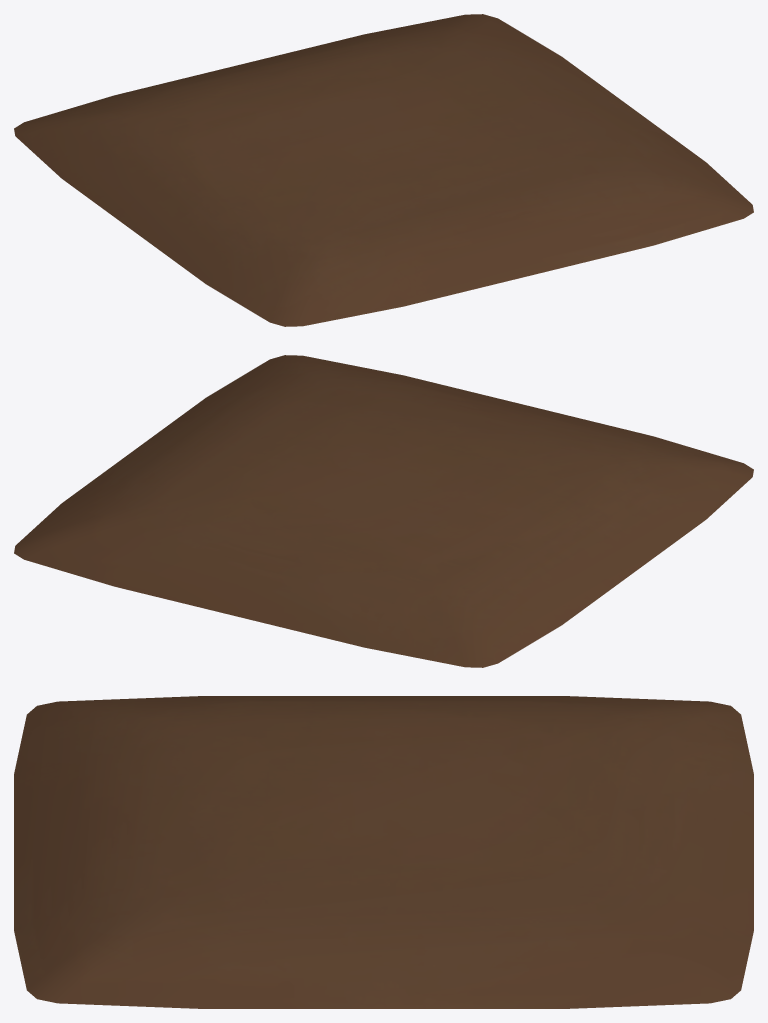
File: 田地干燥.fbx
3 renders of one model, top to bottom at view 1: azimuth 30°, elevation 25°; view 2: azimuth 150°, elevation 25°; view 3: azimuth 270°, elevation 25°, orthographic. The views are drawn at different scales.
Parts seen in each view (by area): view 1: 土地干燥; view 2: 土地干燥; view 3: 土地干燥.
Part boxes in pixels (x1,y1,x2,y2): 土地干燥: (14, 14, 753, 326); 土地干燥: (14, 355, 753, 667); 土地干燥: (14, 696, 753, 1008).
Bounding box in the file's own units: 100 × 6.51 × 100.
Materials: 1 (1 with a texture image).
